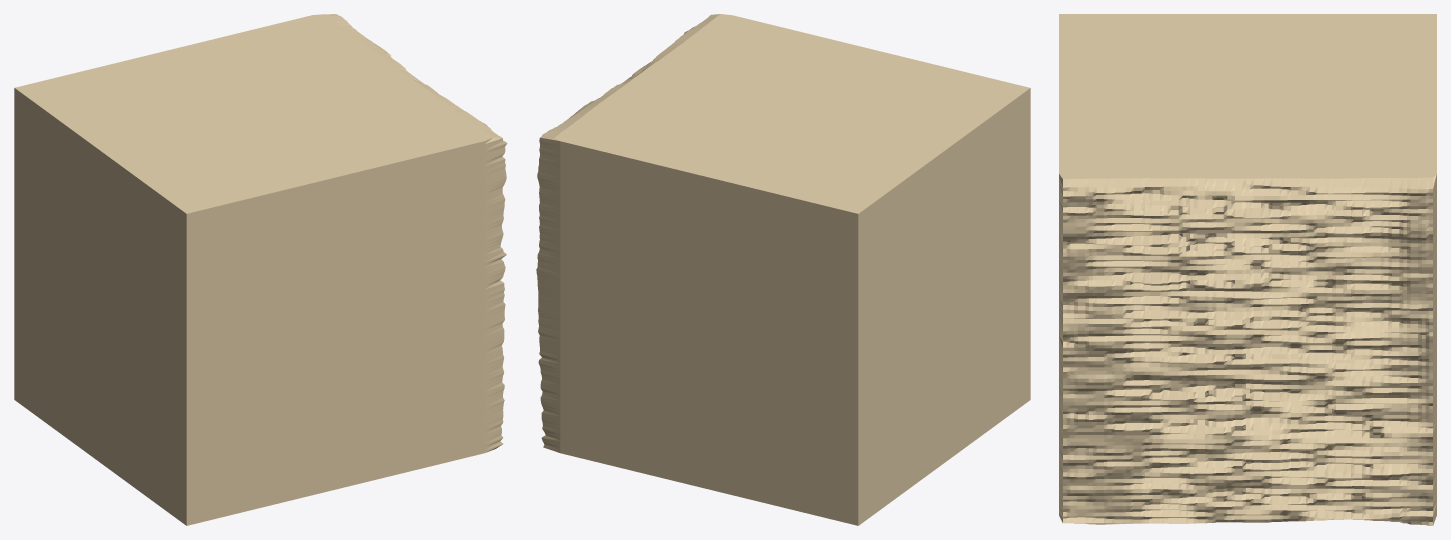
Rendered from lat4.png.obj.
3 views of the same model, side by side, from view 1: azimuth 30°, elevation 25°; view 2: azimuth 150°, elevation 25°; view 3: azimuth 270°, elevation 25° (orthographic). The views are drawn at different scales.
Parts seen in each view (by area): view 1: Cube; view 2: Cube; view 3: Cube.
Boxes of the visible parts, box(x1,y1,x2,y2) form: Cube: box(14, 14, 507, 525); Cube: box(536, 14, 1030, 525); Cube: box(1059, 14, 1436, 525).
Size of the model in its own units: 1.1 by 1 by 1.
